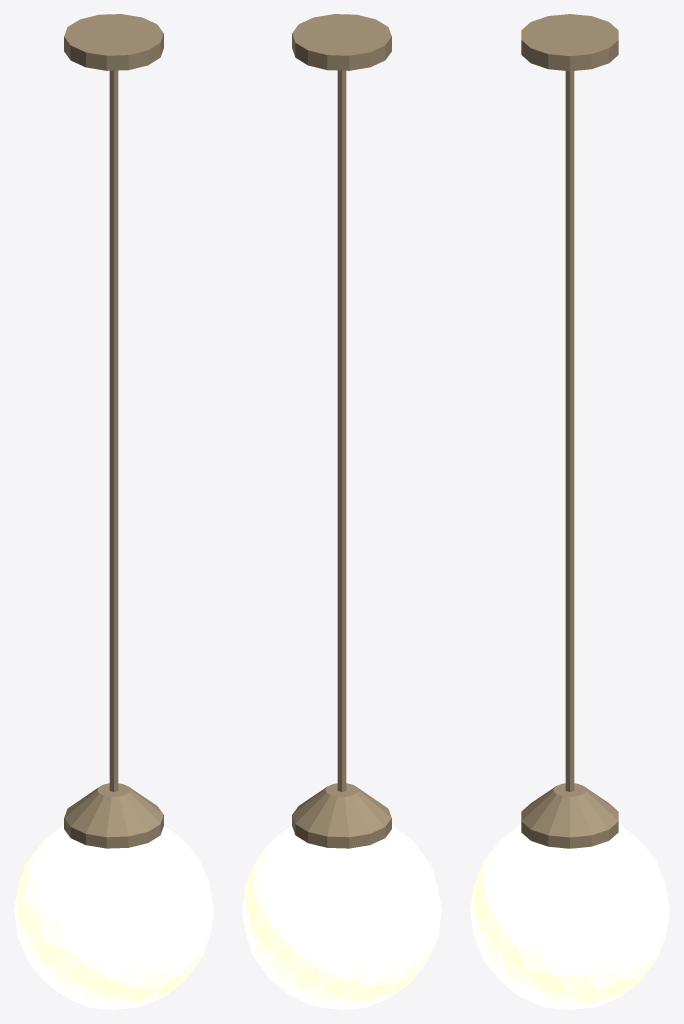
Rendered from pendant.glb.
The picture shows the model from 3 angles, left to right: view 1: azimuth 30°, elevation 25°; view 2: azimuth 150°, elevation 25°; view 3: azimuth 270°, elevation 25°; orthographic projection.
Visible parts, largest first — view 1: pendant_lamp_glass, pendant_bronze; view 2: pendant_lamp_glass, pendant_bronze; view 3: pendant_lamp_glass, pendant_bronze.
Part boxes in pixels (box(x1,y1,x2,y2)): pendant_lamp_glass: box(14, 825, 213, 1009); pendant_bronze: box(64, 14, 163, 848); pendant_lamp_glass: box(242, 825, 441, 1009); pendant_bronze: box(292, 14, 391, 848); pendant_lamp_glass: box(470, 824, 669, 1009); pendant_bronze: box(521, 14, 618, 848).
Size of the model in its own units: 0.48 by 2.56 by 0.48.
